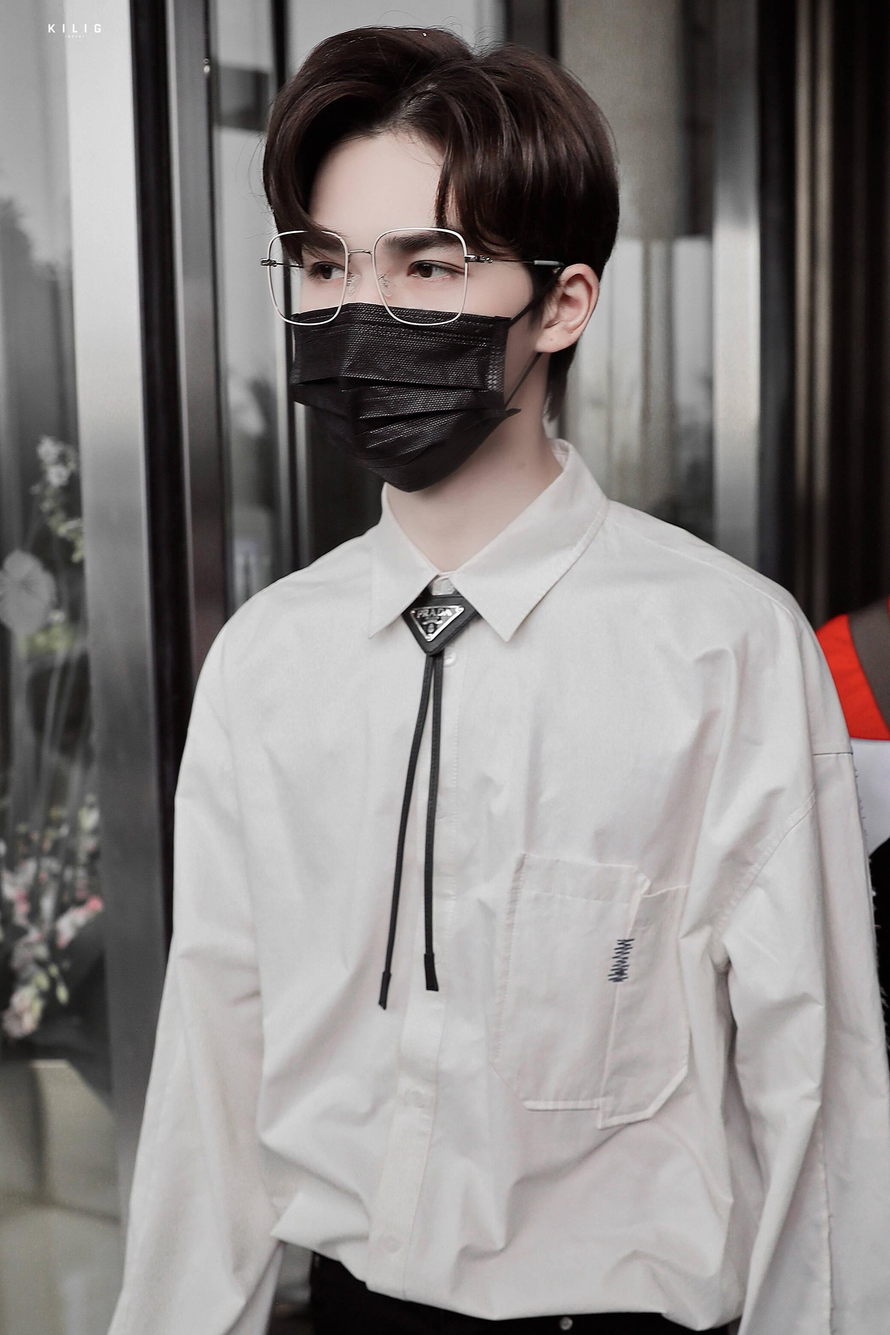OK: (290, 184, 522, 484)
